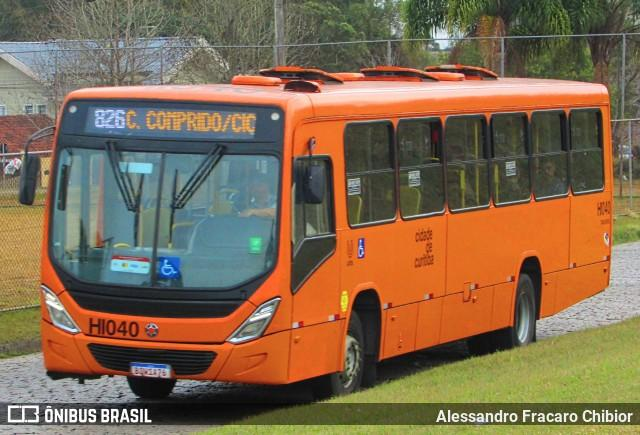C. COMPRIDO CIC: (124, 108, 258, 136)
